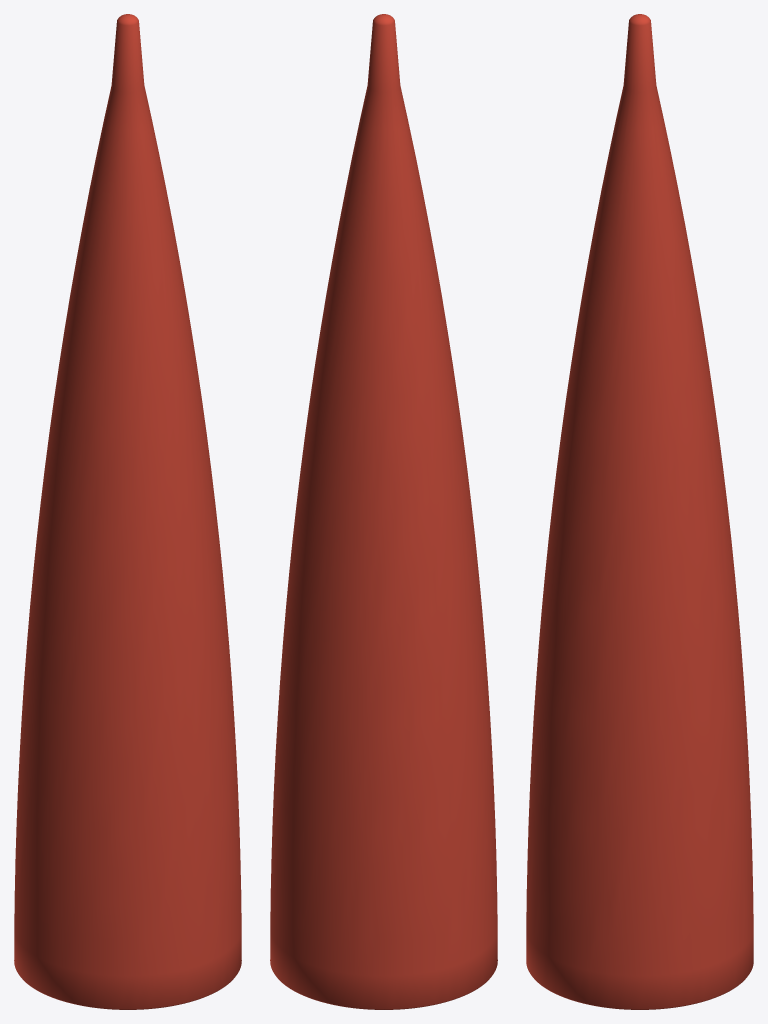
File: nose-cone.glb
3 views of the same model, side by side, from view 1: azimuth 30°, elevation 25°; view 2: azimuth 150°, elevation 25°; view 3: azimuth 270°, elevation 25° (orthographic).
Parts seen in each view (by area): view 1: nose; view 2: nose; view 3: nose.
Boxes of the visible parts, bbox=[...] form: nose: bbox=[14, 14, 241, 1009]; nose: bbox=[270, 14, 497, 1009]; nose: bbox=[526, 14, 753, 1009].
Bounding box in the file's own units: 0.098 × 0.4497 × 0.098.
